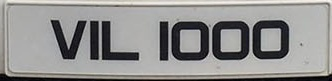character: (100, 18, 141, 61), (170, 19, 210, 62), (211, 19, 250, 60), (251, 19, 290, 60), (49, 18, 87, 60), (157, 19, 170, 62), (88, 19, 100, 60)
